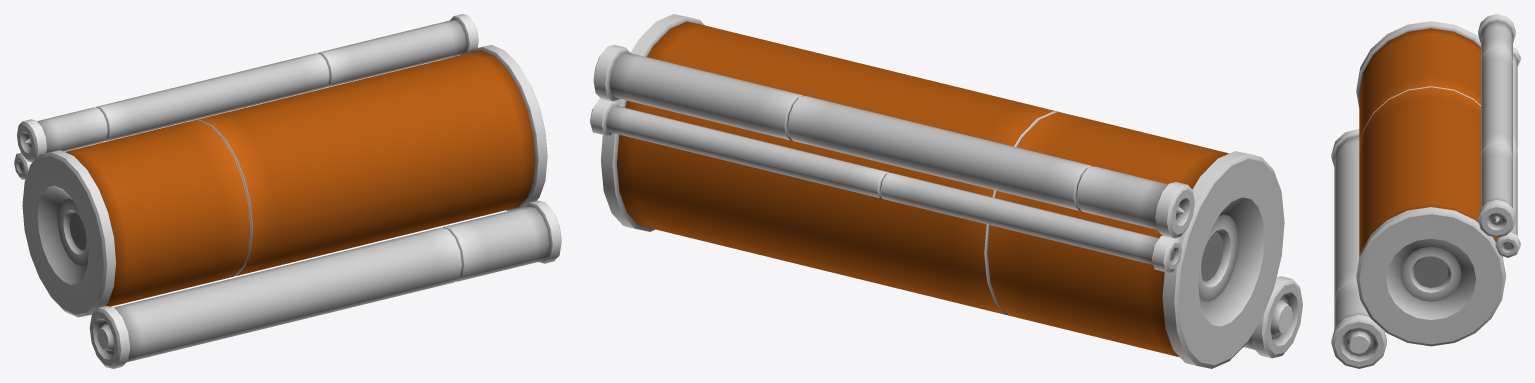
Rendered from deco_pipe_straight.FBX.
3 renders of one model, left to right at view 1: azimuth 30°, elevation 25°; view 2: azimuth 150°, elevation 25°; view 3: azimuth 270°, elevation 25°, orthographic. The views are drawn at different scales.
Parts seen in each view (by area): view 1: deco_pipe_straight; view 2: deco_pipe_straight; view 3: deco_pipe_straight.
Boxes of the visible parts, x1,y1,x2,y2 form: deco_pipe_straight: (14, 14, 561, 368); deco_pipe_straight: (590, 14, 1302, 368); deco_pipe_straight: (1331, 14, 1520, 368).
Size of the model in its own units: 2.01 by 0.8064 by 0.8359.
